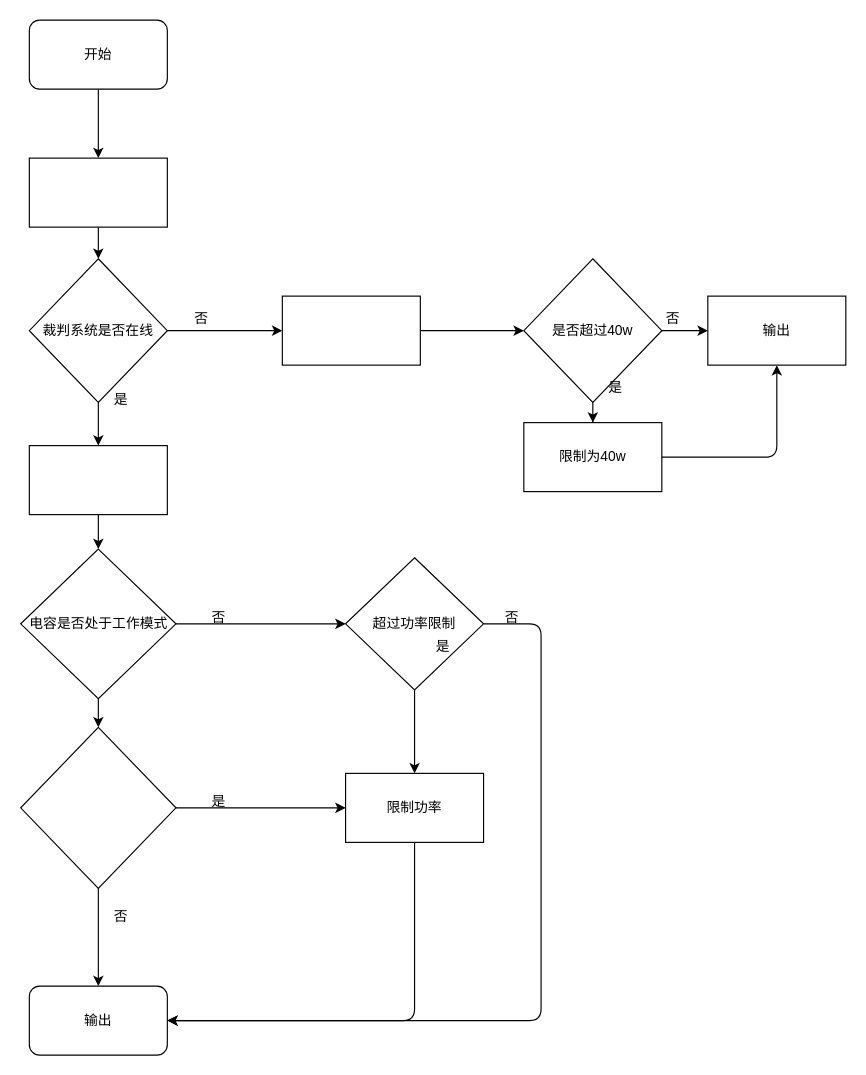
This 866x1075 diagram has some shape labels left out. Each missing label, with the centre of its shape:
功率限制为40w: point (350, 330)
计算输出电流总和: point (97, 192)
读取功率限制: point (97, 479)
超过功率限制+电容buff: point (98, 807)
